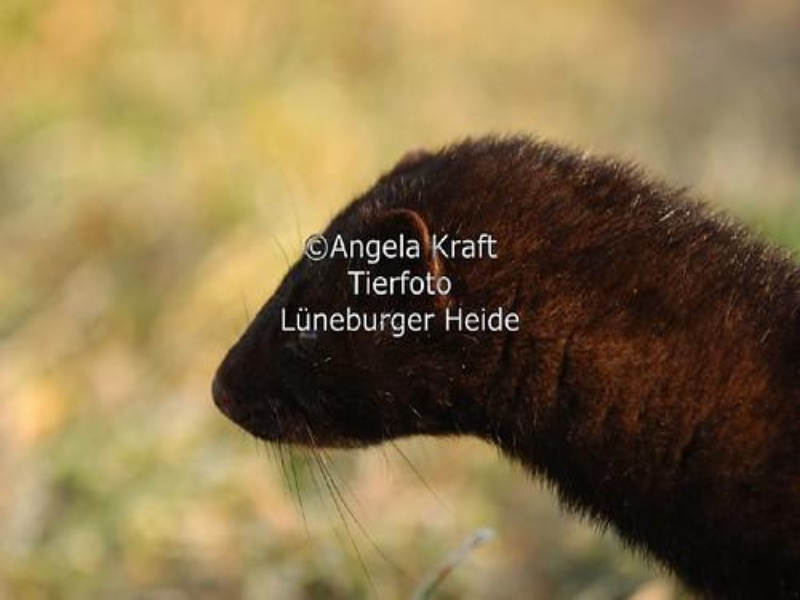minkish: (193, 127, 800, 591)
